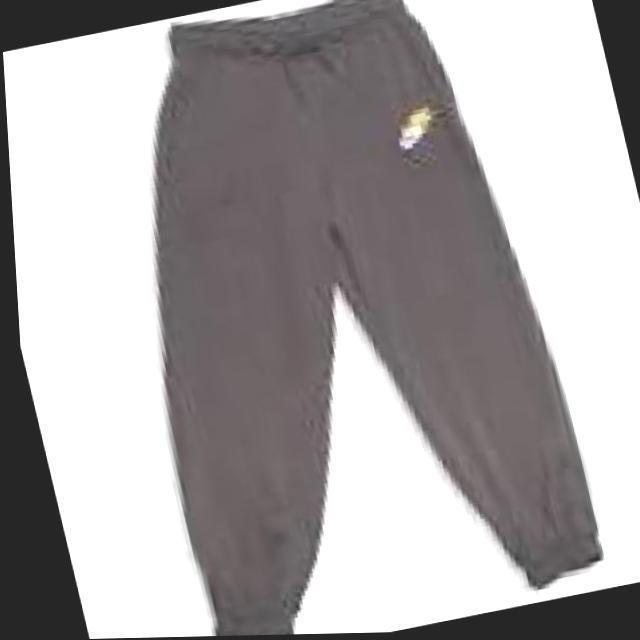pants: (145, 0, 604, 638)
